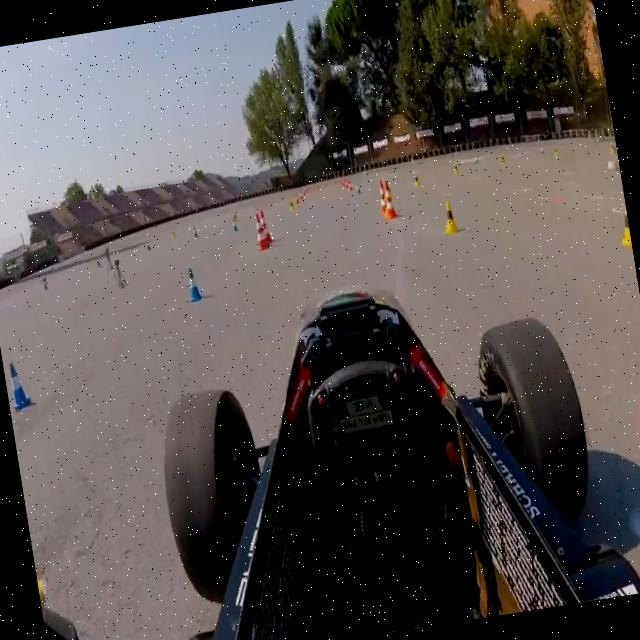blue_cone: (8, 360, 32, 412), (631, 325, 640, 458), (185, 268, 202, 302)
large_orange_cone: (381, 178, 398, 219), (253, 210, 269, 250), (257, 209, 273, 243), (376, 176, 391, 212)
yellow_cone: (440, 198, 460, 238), (616, 202, 632, 248)
